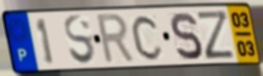1: (35, 16, 55, 67)
C: (130, 13, 165, 63)
R: (95, 12, 138, 67)
S: (62, 13, 98, 67), (168, 11, 204, 63)
Z: (195, 9, 237, 62)
